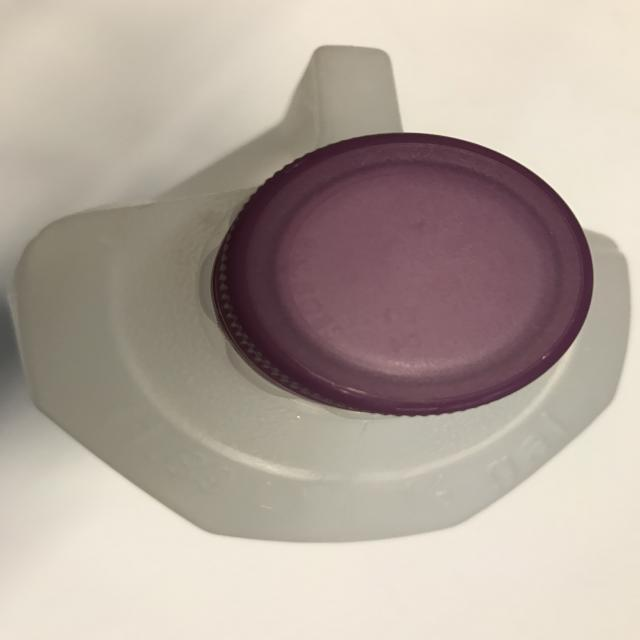plastic: (9, 42, 640, 539)
